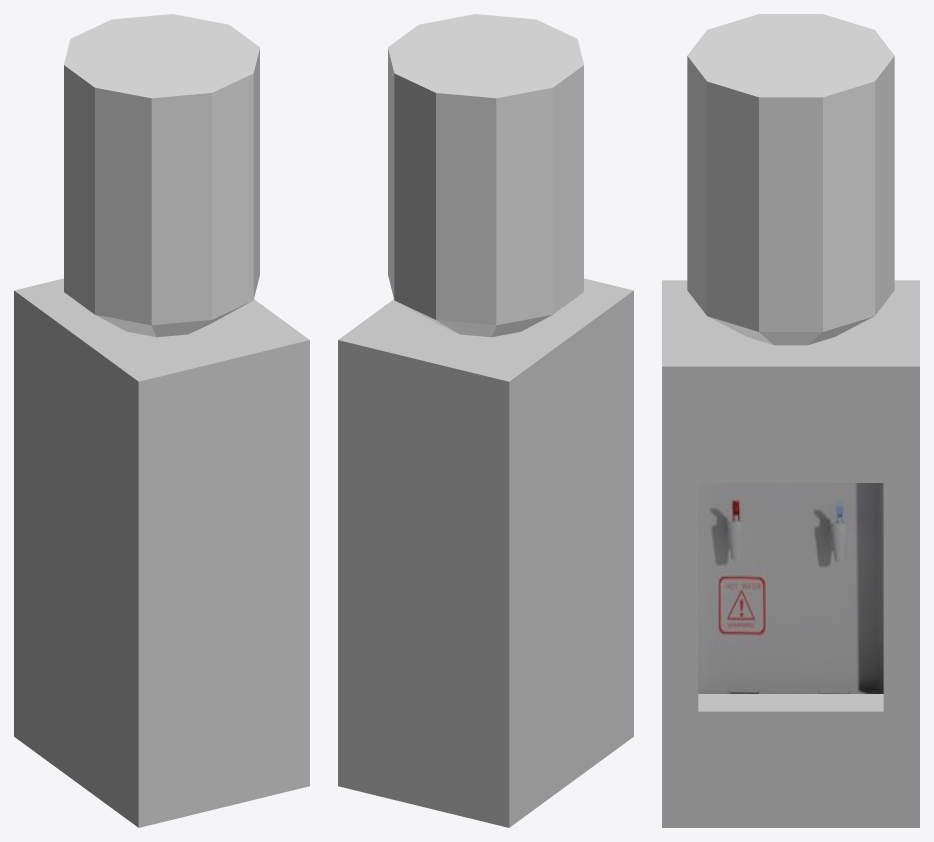
File: dispenser .fbx
The picture shows the model from 3 angles, left to right: view 1: azimuth 30°, elevation 25°; view 2: azimuth 150°, elevation 25°; view 3: azimuth 270°, elevation 25°; orthographic projection. The views are drawn at different scales.
Parts seen in each view (by area): view 1: Cube, Cylinder; view 2: Cube, Cylinder; view 3: Cube, Cylinder.
Part boxes in pixels (<box>): Cube: <box>14,278,309,827</box>; Cylinder: <box>64,14,259,337</box>; Cube: <box>338,278,633,827</box>; Cylinder: <box>388,14,583,337</box>; Cube: <box>662,280,919,827</box>; Cylinder: <box>687,14,894,345</box>.
Size of the model in its own units: 200 by 788 by 253.
